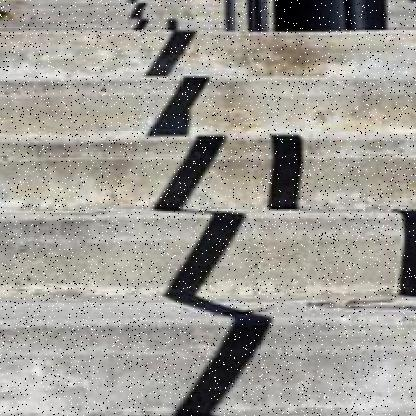stair_up: (0, 22, 410, 312)
